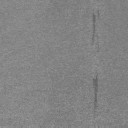red iron: (92, 10, 102, 45), (93, 73, 99, 110)
